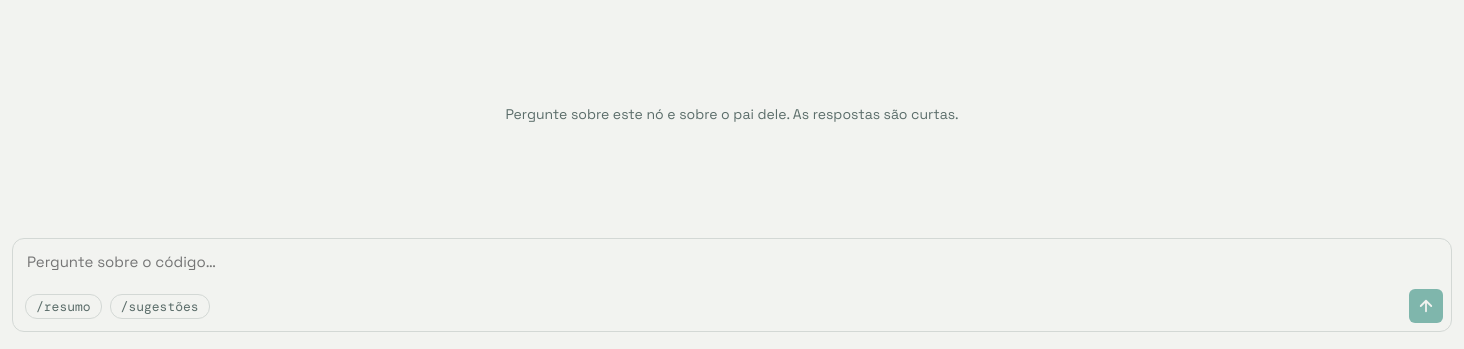
it: ChatTab › runs the chip of the suggestions the same way and keeps the shortcuts after the first message
The width and height of the screenshot is (1464, 349).
Click the button "/sugestões": click(160, 306) [110, 294, 210, 318]
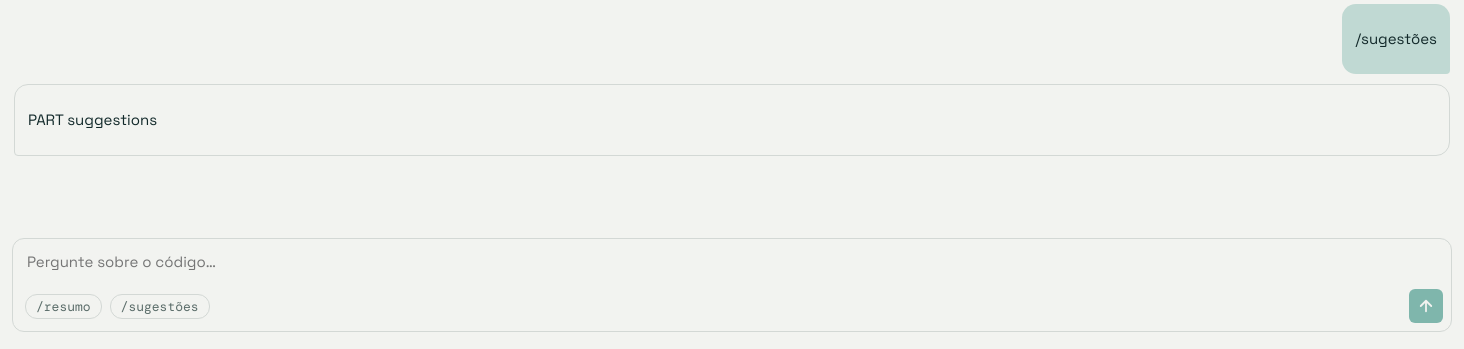
Expected: the number of buttons "/resumo" is 1, [25, 294, 102, 318]
Expected: the text "PART suggestions" is shown, [28, 110, 157, 129]
